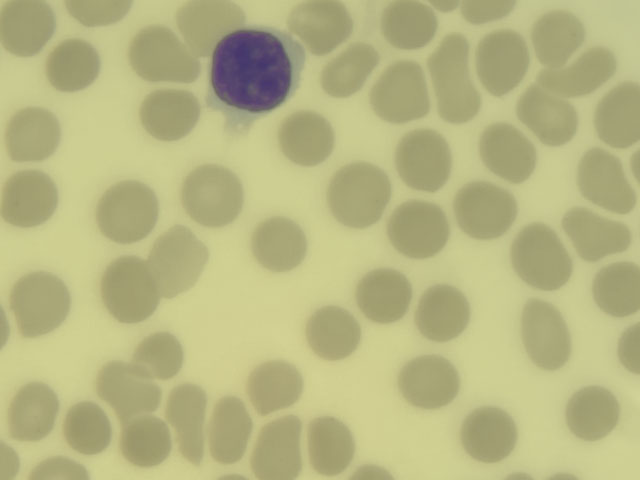RBC: (427, 34, 479, 116), (331, 165, 392, 227), (99, 355, 161, 415), (99, 180, 162, 239), (127, 326, 190, 385), (11, 270, 74, 329), (98, 261, 161, 320), (147, 232, 210, 291), (252, 214, 315, 273), (179, 165, 242, 224), (578, 143, 633, 210), (397, 133, 458, 193), (511, 227, 572, 287), (459, 182, 520, 242), (247, 351, 308, 411), (1, 170, 62, 229), (203, 397, 258, 462), (530, 57, 618, 96), (477, 30, 533, 91), (353, 265, 410, 324), (163, 382, 205, 462), (517, 303, 567, 370), (255, 416, 307, 480), (379, 57, 427, 124), (128, 26, 192, 76), (461, 409, 518, 463), (297, 310, 357, 360), (7, 107, 62, 161), (525, 82, 576, 139), (593, 80, 640, 140), (417, 283, 466, 340), (9, 385, 57, 441), (321, 43, 370, 97), (280, 112, 334, 160), (143, 88, 197, 136), (376, 1, 434, 45), (49, 40, 97, 93), (563, 388, 616, 436), (1, 1, 54, 48), (401, 357, 456, 402), (289, 1, 349, 42), (535, 6, 582, 57), (493, 125, 540, 176), (593, 261, 640, 311), (308, 411, 343, 478), (64, 402, 108, 453), (175, 1, 236, 37), (459, 1, 522, 26), (68, 1, 133, 25), (32, 455, 92, 480)
WBC: (213, 32, 298, 111)
